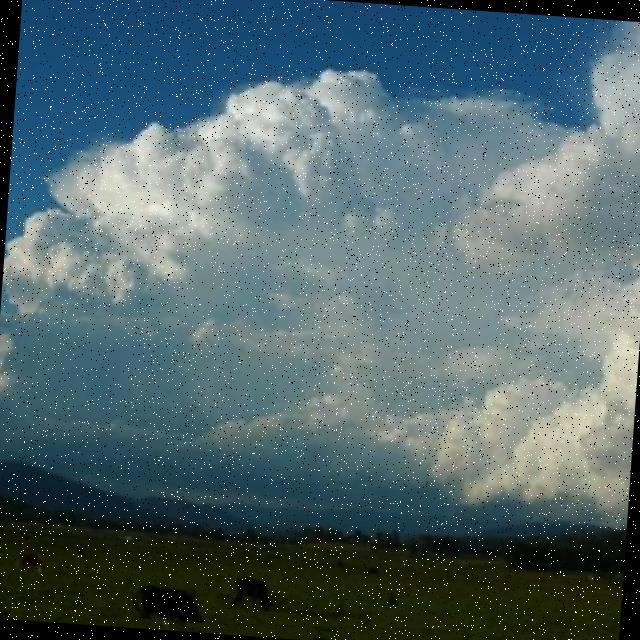Cb: (5, 7, 640, 466)
